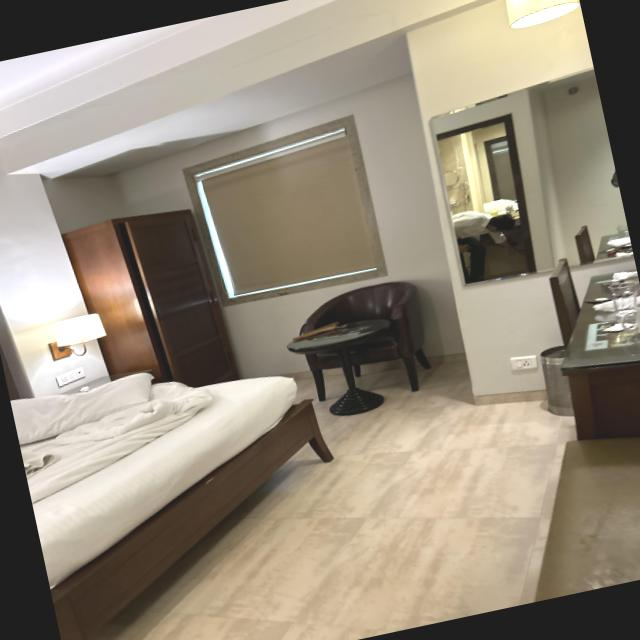mess: (7, 304, 355, 640), (501, 233, 640, 585)
